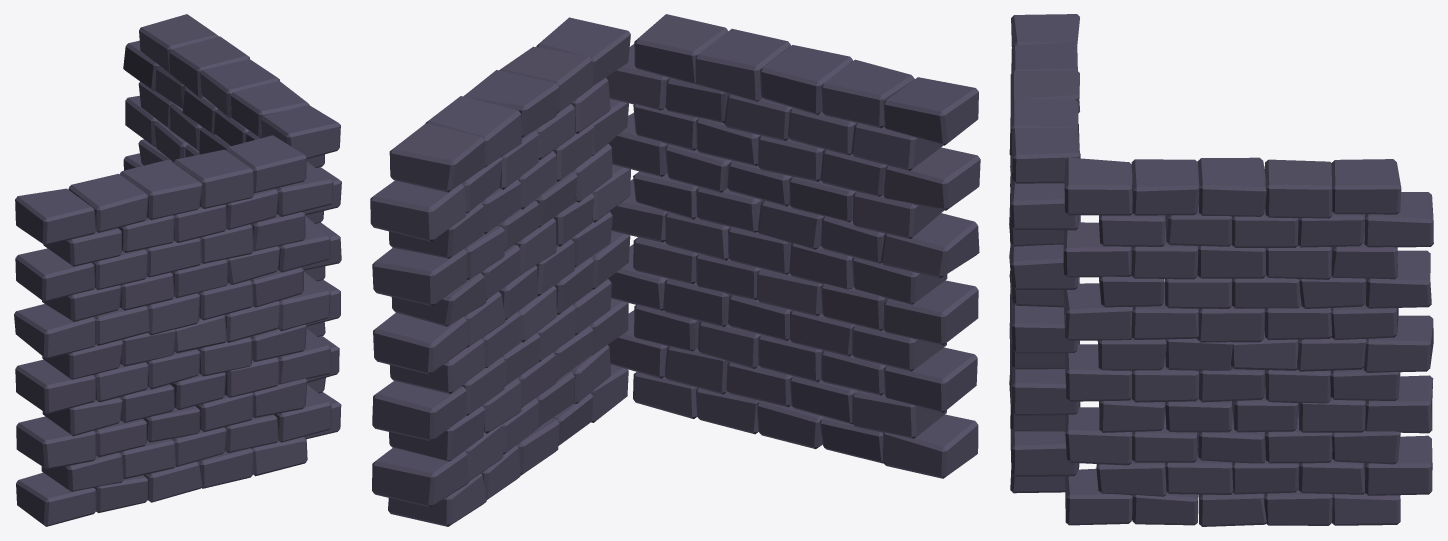
File: BrickCorner.glb
3 views of the same model, side by side, from view 1: azimuth 30°, elevation 25°; view 2: azimuth 150°, elevation 25°; view 3: azimuth 270°, elevation 25° (orthographic). The views are drawn at different scales.
Parts seen in each view (by area): view 1: Cube, Cube.001; view 2: Cube, Cube.001; view 3: Cube.001, Cube.
Boxes of the visible parts, box(x1,y1,x2,y2) form: Cube: box(14, 135, 333, 526); Cube.001: box(123, 14, 341, 439); Cube: box(606, 14, 980, 478); Cube.001: box(370, 17, 630, 526); Cube.001: box(1063, 157, 1433, 526); Cube: box(1009, 14, 1080, 493).
Size of the model in its own units: 2.48 by 2.27 by 2.55.
